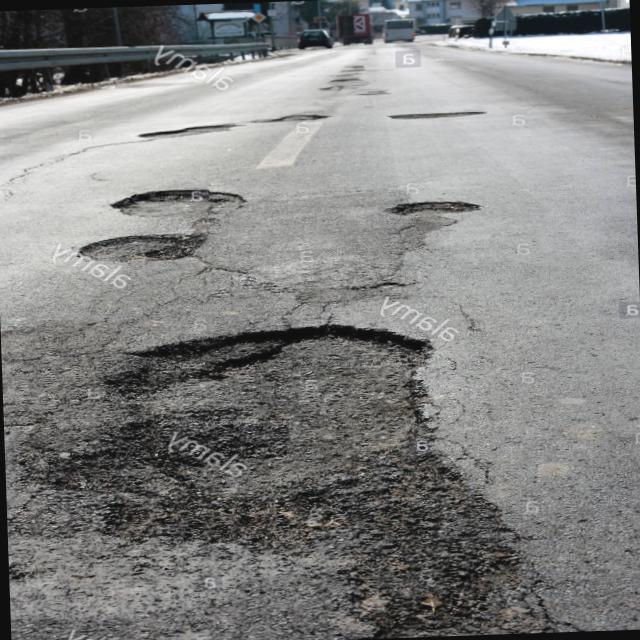bad-road: (5, 312, 546, 640), (76, 230, 207, 266), (111, 182, 242, 218), (383, 196, 479, 217), (140, 120, 240, 140), (392, 106, 486, 120), (257, 112, 324, 125)
